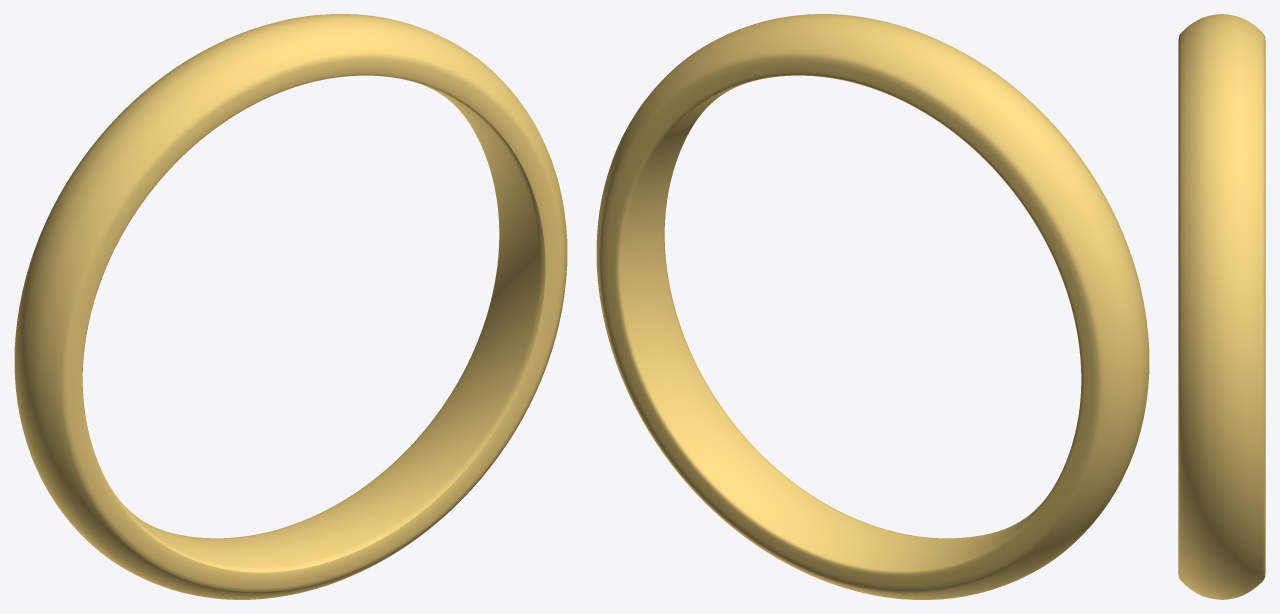
Rendered from Chris_r_wb_blender.glb.
3 renders of one model, left to right at view 1: azimuth 30°, elevation 25°; view 2: azimuth 150°, elevation 25°; view 3: azimuth 270°, elevation 25°, orthographic. The views are drawn at different scales.
Visible parts, largest first — view 1: Chris 3.5 YG for 3d model; view 2: Chris 3.5 YG for 3d model; view 3: Chris 3.5 YG for 3d model.
Boxes of the visible parts, box(x1,y1,x2,y2) form: Chris 3.5 YG for 3d model: box(14, 14, 567, 599); Chris 3.5 YG for 3d model: box(596, 14, 1149, 599); Chris 3.5 YG for 3d model: box(1178, 14, 1265, 599).
Bounding box in the file's own units: 23.41 × 23.41 × 3.5.
